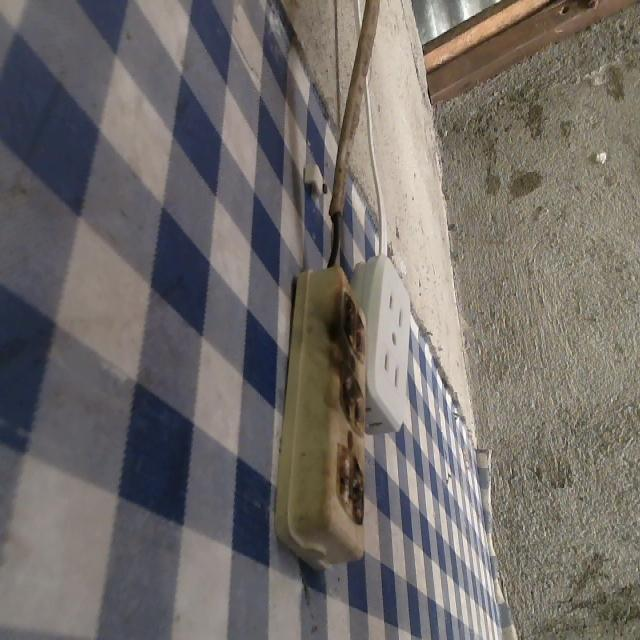-: (333, 448, 374, 529), (333, 367, 372, 433), (335, 289, 368, 363)
